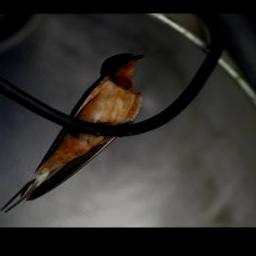Swallow: (0, 49, 151, 214)
